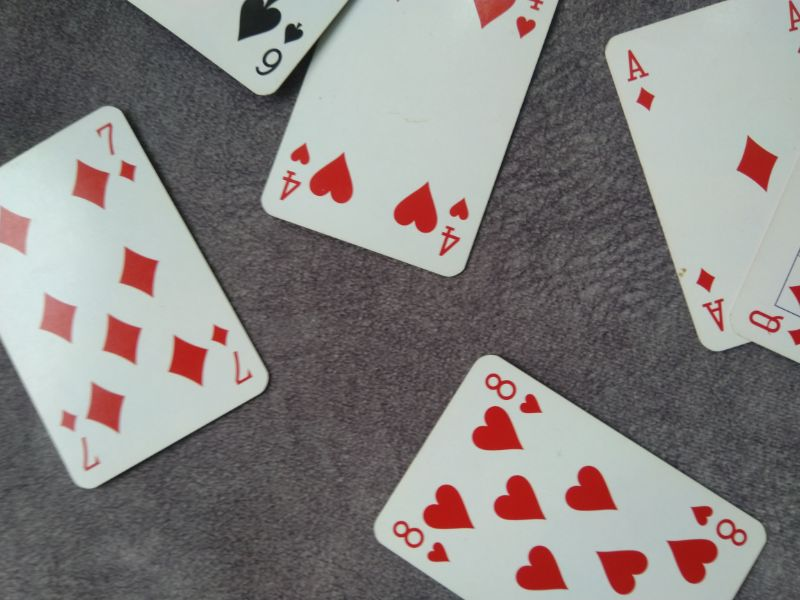4h: (275, 139, 312, 203), (438, 194, 470, 260)
6s: (251, 19, 305, 76)
7d: (55, 406, 102, 475), (208, 320, 255, 387), (94, 121, 139, 187)
8h: (687, 501, 751, 549), (483, 371, 546, 418), (393, 519, 452, 567)
Ad: (623, 45, 662, 115), (694, 261, 729, 335)
